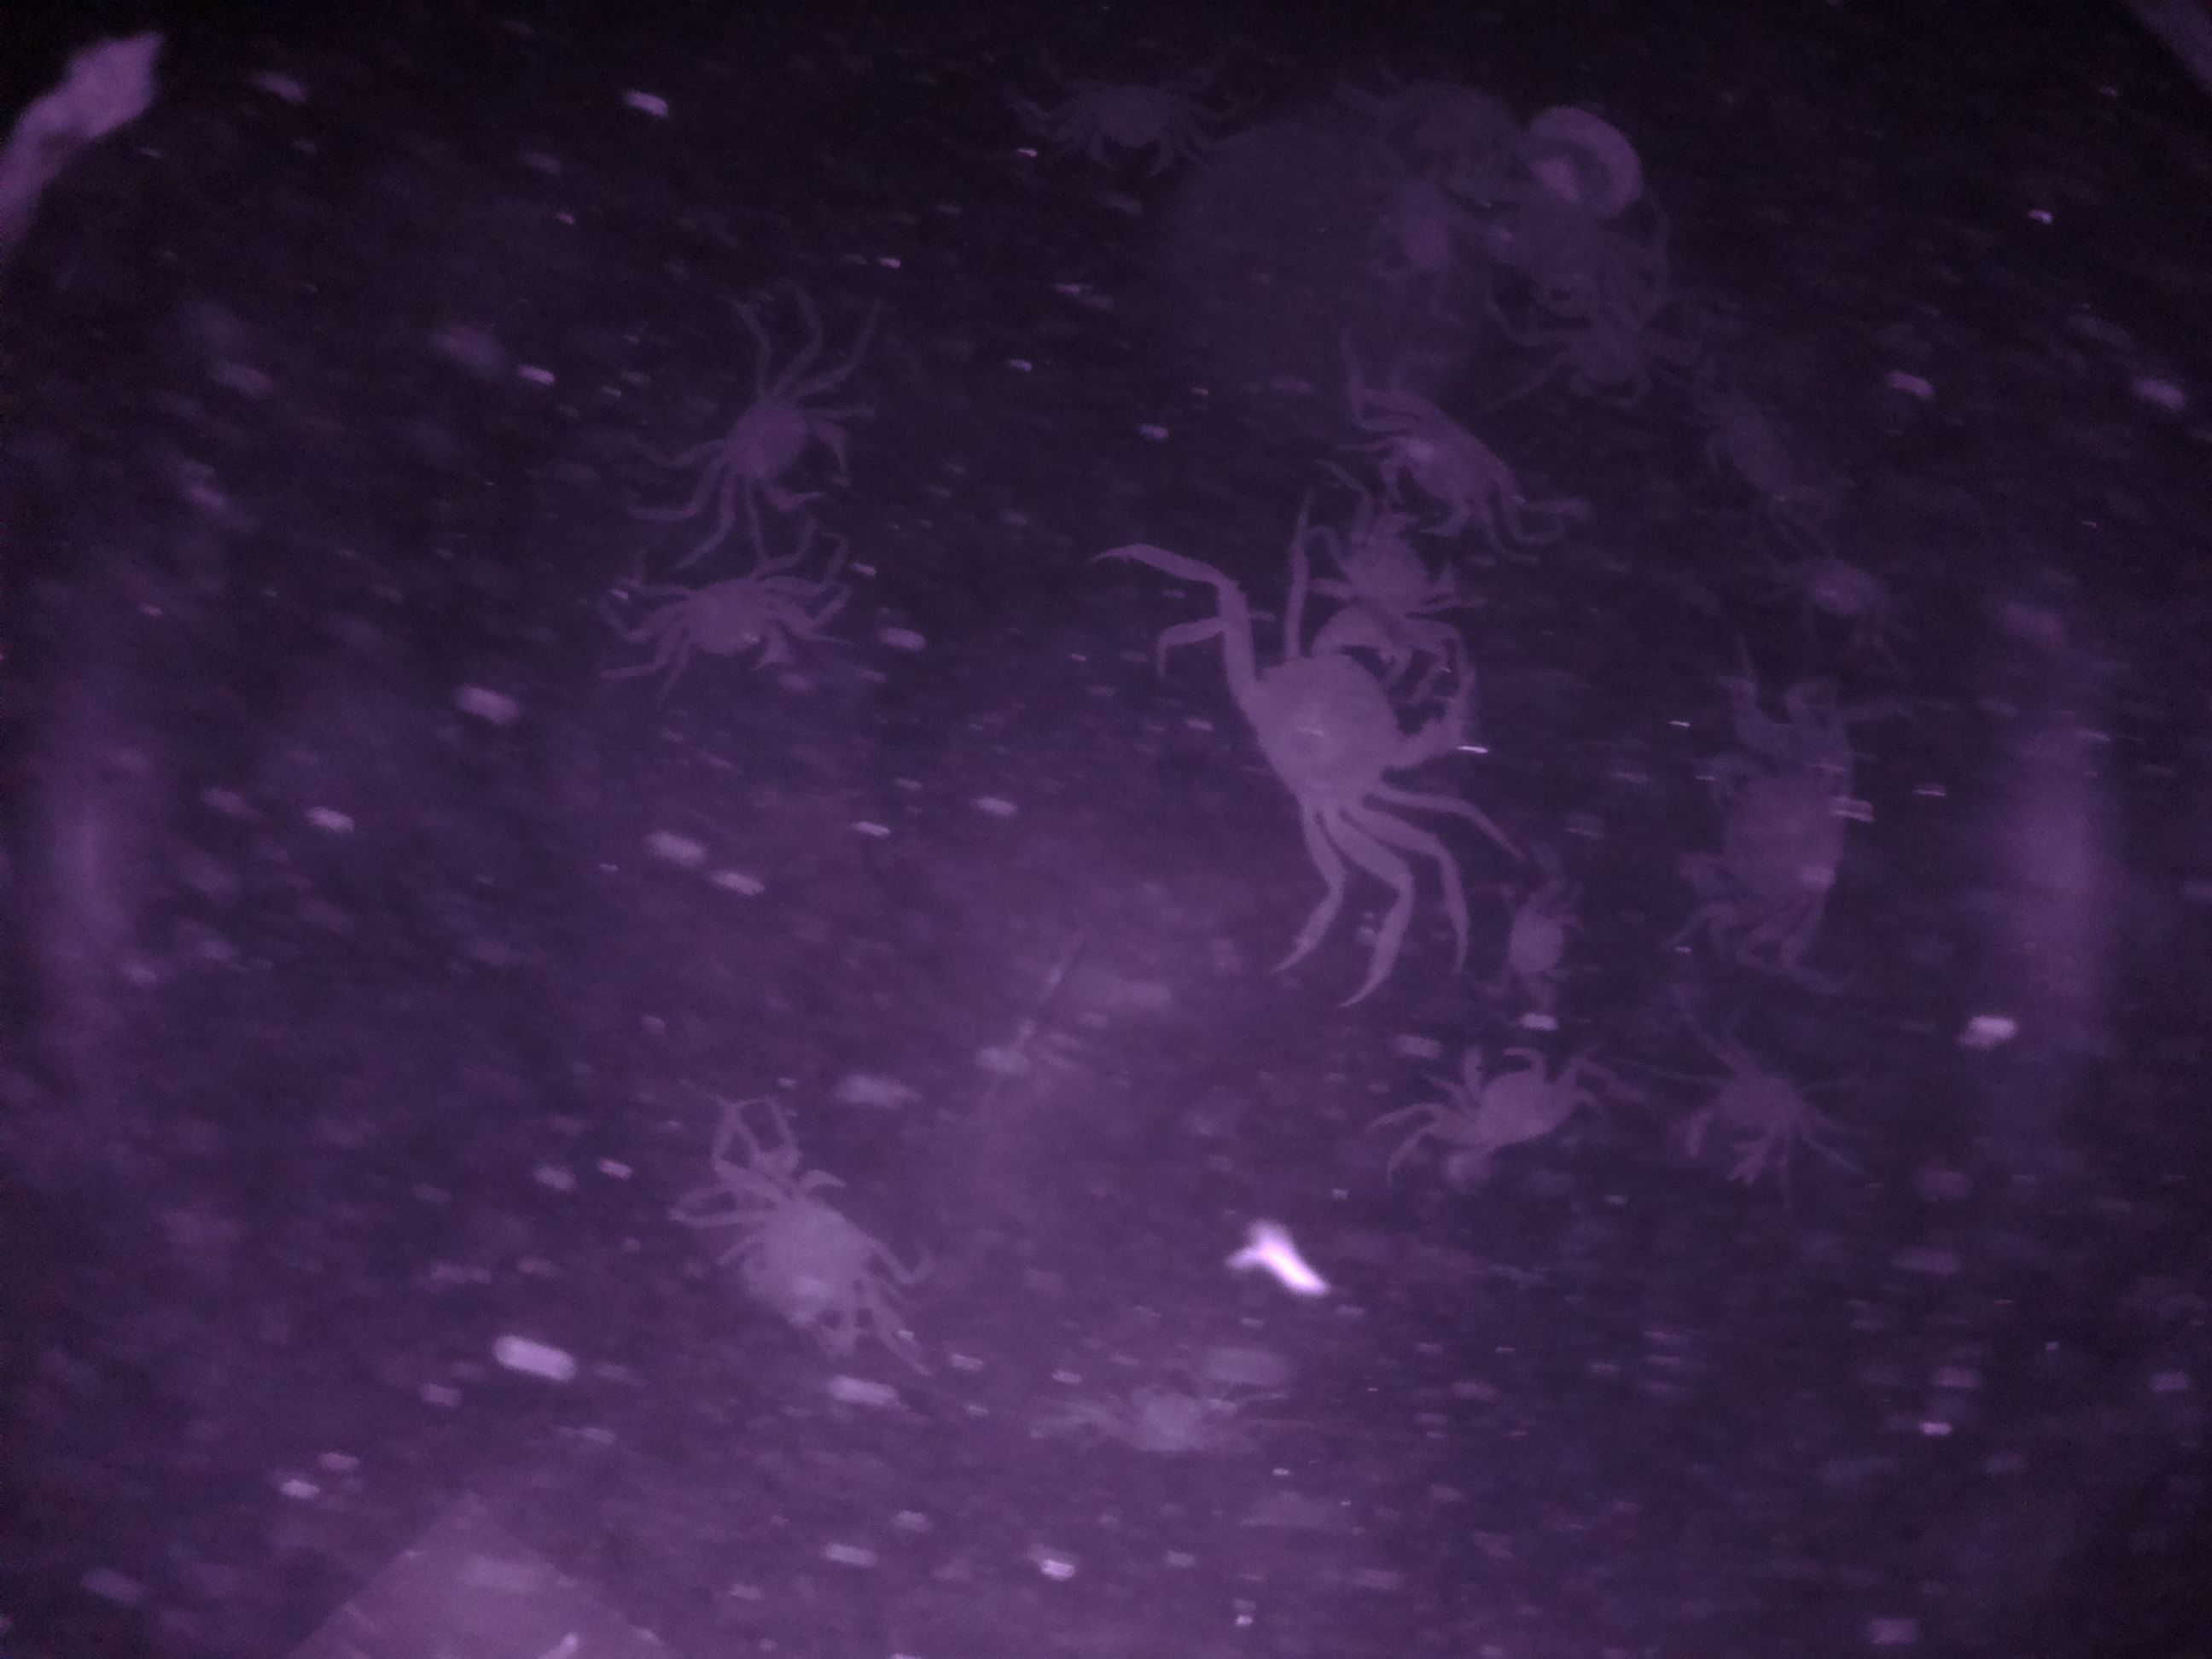Crab: (1193, 586, 1482, 863), (676, 354, 869, 526), (1359, 385, 1541, 559), (617, 552, 836, 687), (1409, 1030, 1594, 1168)
